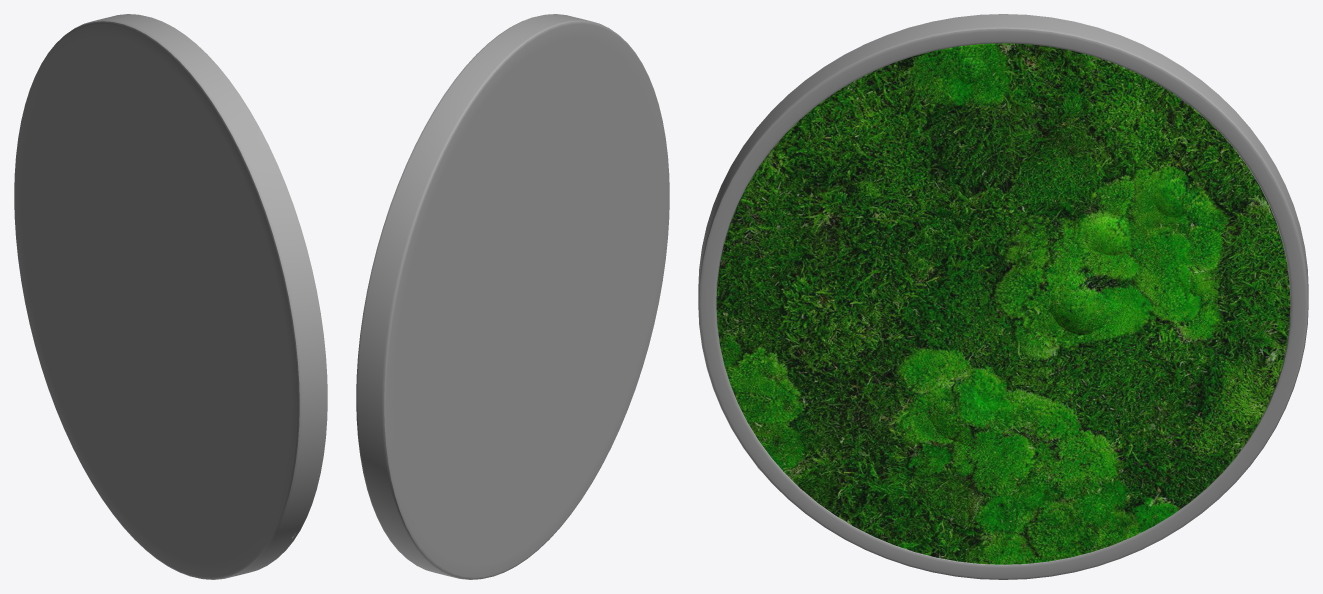
File: Moosbild_Mixmoos_rund_800mm_white_25yarıcap.fbx
The picture shows the model from 3 angles, left to right: view 1: azimuth 30°, elevation 25°; view 2: azimuth 150°, elevation 25°; view 3: azimuth 270°, elevation 25°; orthographic projection. The views are drawn at different scales.
Parts seen in each view (by area): view 1: edge1; view 2: edge1; view 3: moss_low, edge1, moss_low7.
Boxes of the visible parts, x1,y1,x2,y2 form: edge1: [14, 14, 327, 579]; edge1: [356, 14, 669, 579]; moss_low: [716, 44, 1290, 564]; edge1: [698, 14, 1308, 579]; moss_low7: [716, 43, 1290, 496].
Size of the model in its own units: 3.71 by 50 by 50.
3 materials, 2 textured.
